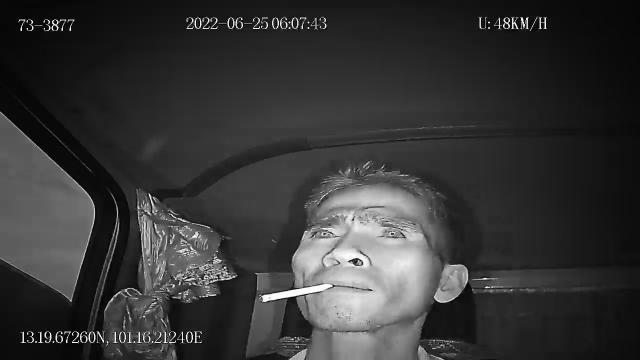SafeDriving: (366, 221, 413, 245), (304, 222, 342, 243)
Smoking: (256, 282, 340, 304)
